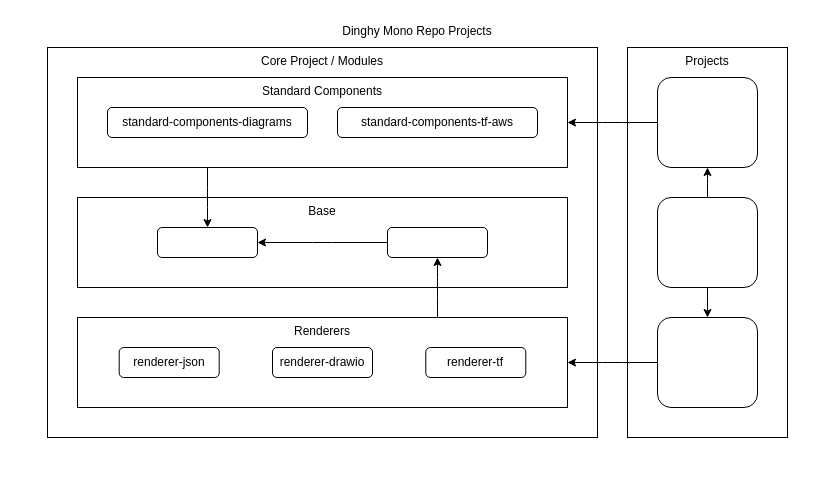
Some shapes in this 834 by 484 pixel diagram are drawn without their labels. Each missing label, with the centre of its shape:
base-components: pixel 207 242
base-renderer: pixel 437 242
cli: pixel 707 242
engine: pixel 707 362
examples: pixel 707 122
